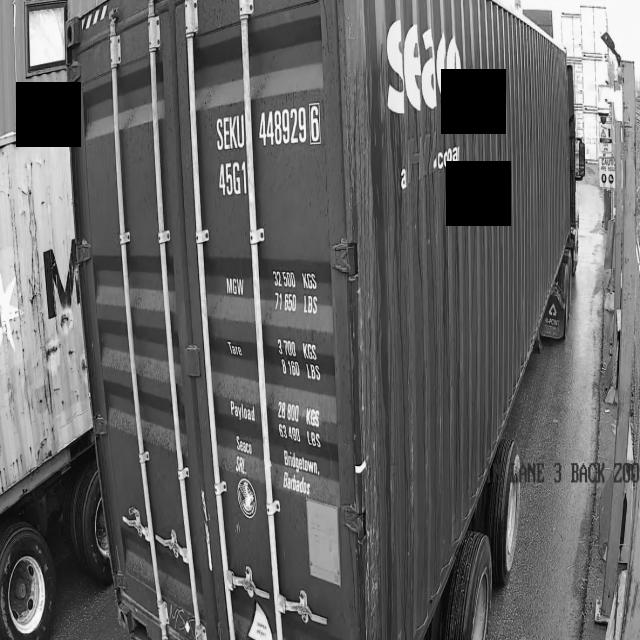container_company_logo: (380, 16, 477, 128)
container_number: (213, 90, 326, 225)
other_container_info: (214, 255, 341, 512)
truck_with_container: (39, 0, 575, 640)
